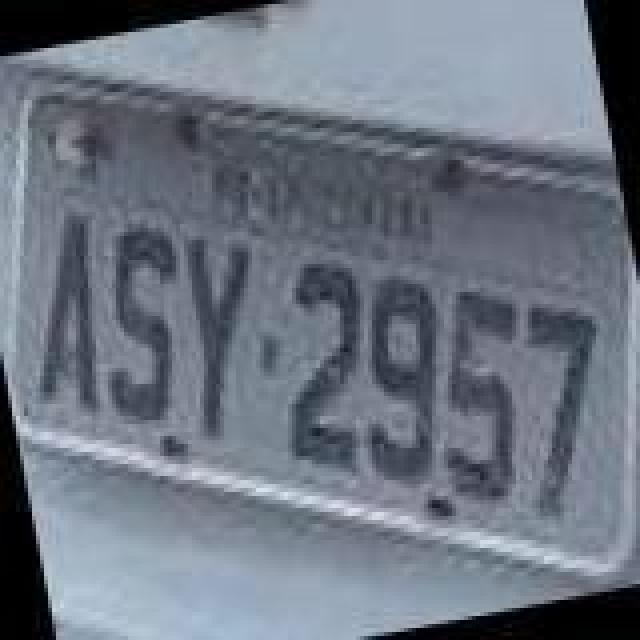2: (254, 256, 394, 480)
5: (412, 278, 548, 506)
7: (496, 284, 632, 516)
9: (338, 272, 470, 488)
A: (2, 210, 126, 422)
S: (80, 218, 208, 422)
Y: (162, 224, 286, 440)
